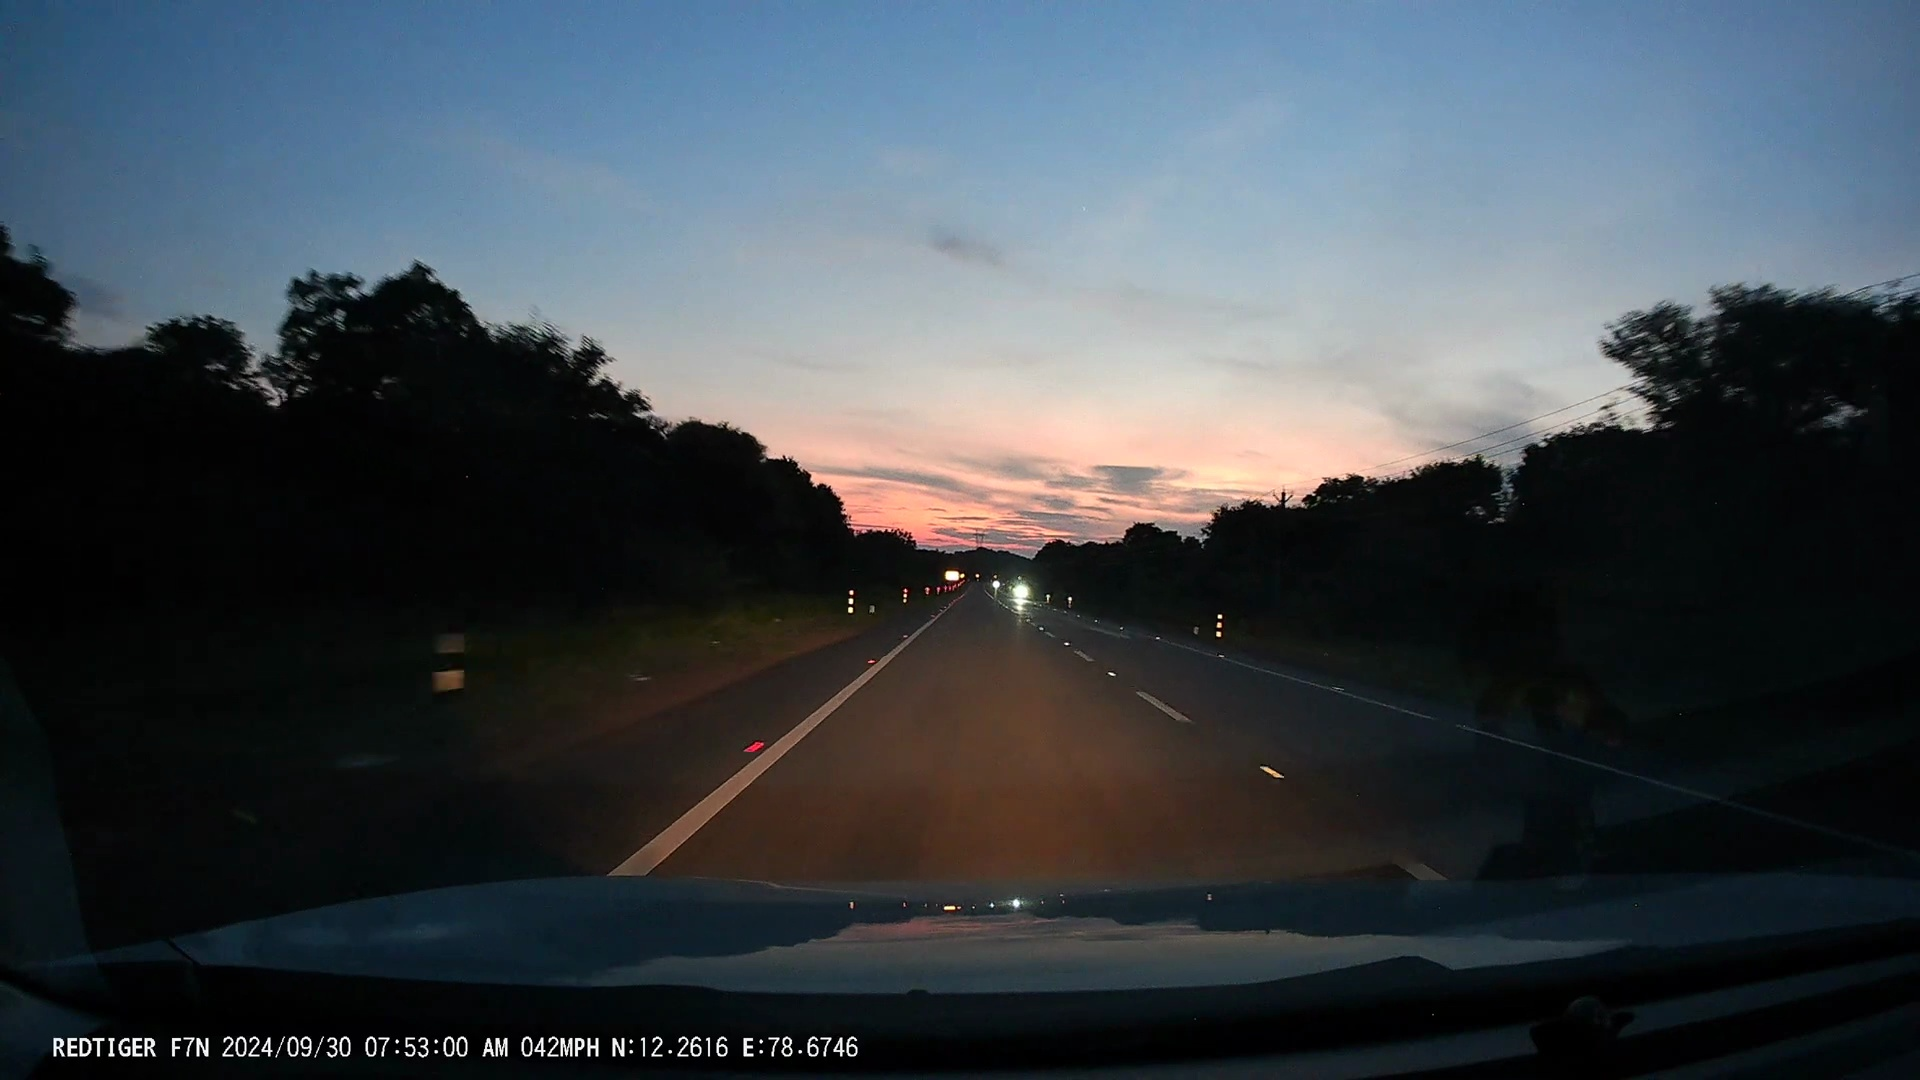headlight: (1014, 584, 1029, 597), (992, 582, 1000, 588)
two wheeler: (1015, 582, 1030, 607), (990, 572, 998, 597)
